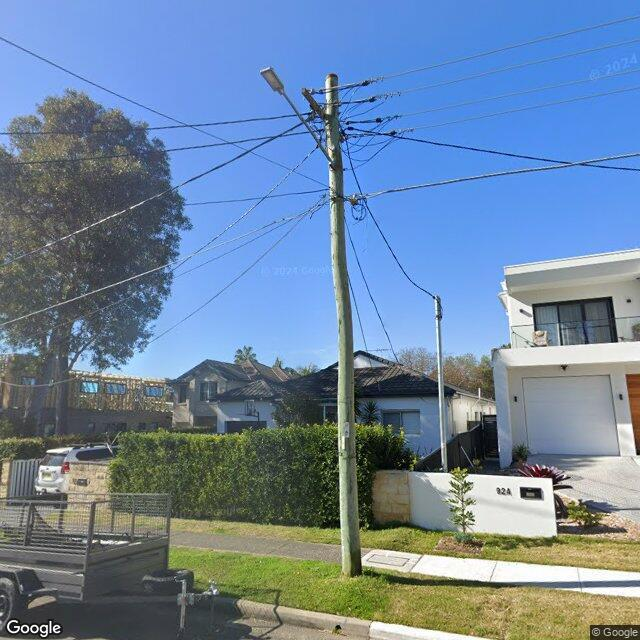crossarm: (301, 89, 346, 141)
steel-pole: (434, 294, 448, 472)
streetlight: (259, 65, 340, 171)
timber-pole: (323, 75, 362, 578)
